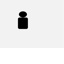human: (15, 8, 31, 32)
